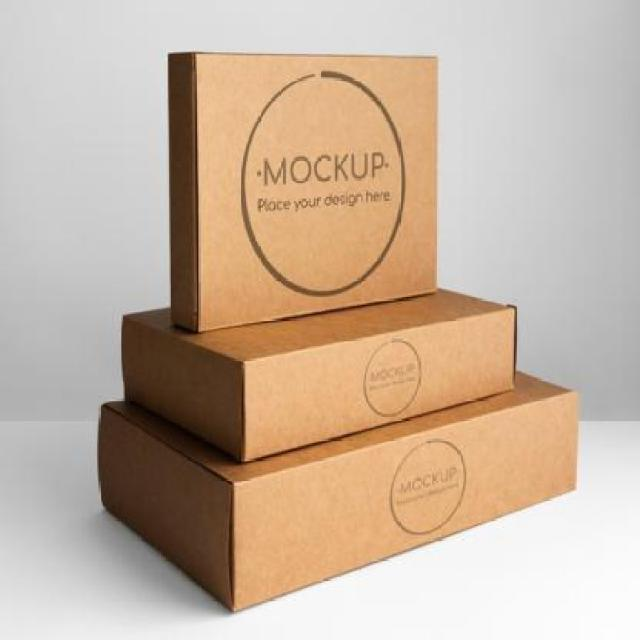box: (98, 366, 581, 614), (160, 48, 442, 330), (122, 284, 522, 462)
